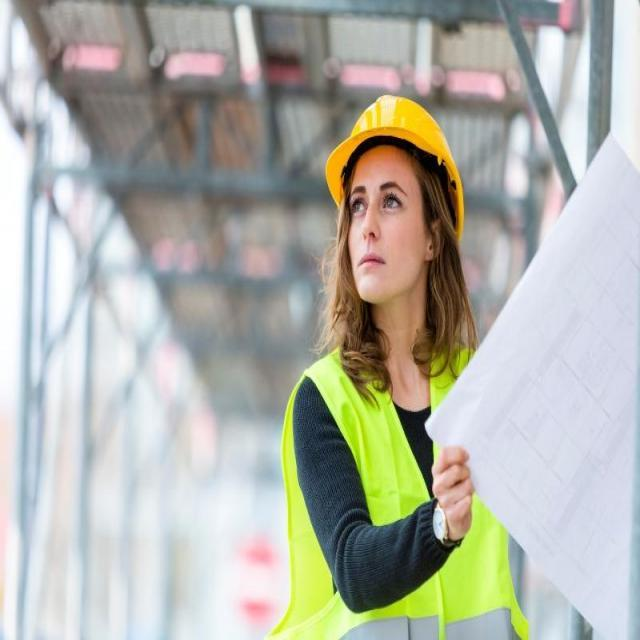Helmet: (320, 92, 470, 316)
